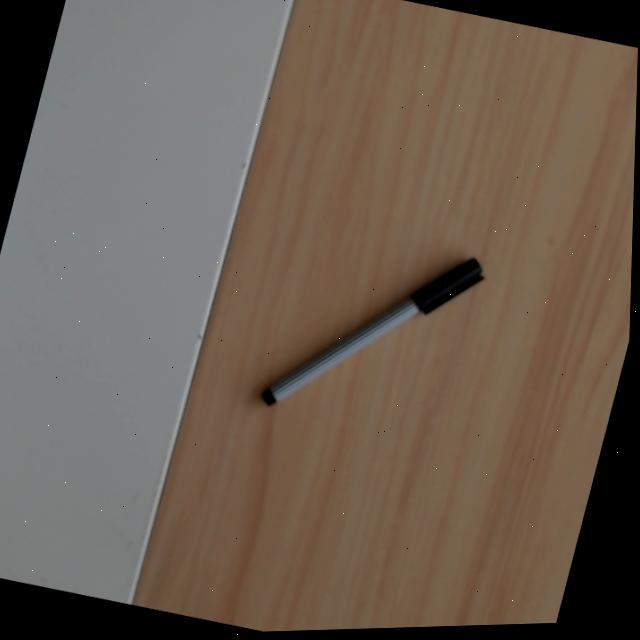Pulpen-Garis-Hitam: (255, 252, 490, 414)
